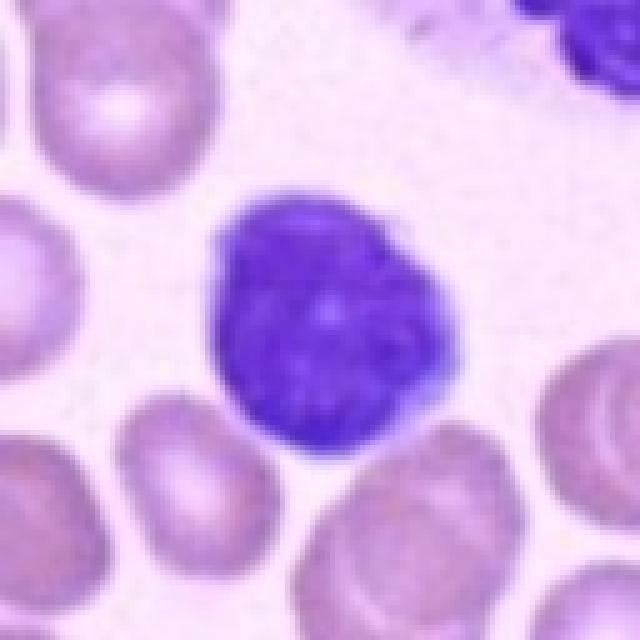lympho: (206, 176, 468, 464)
